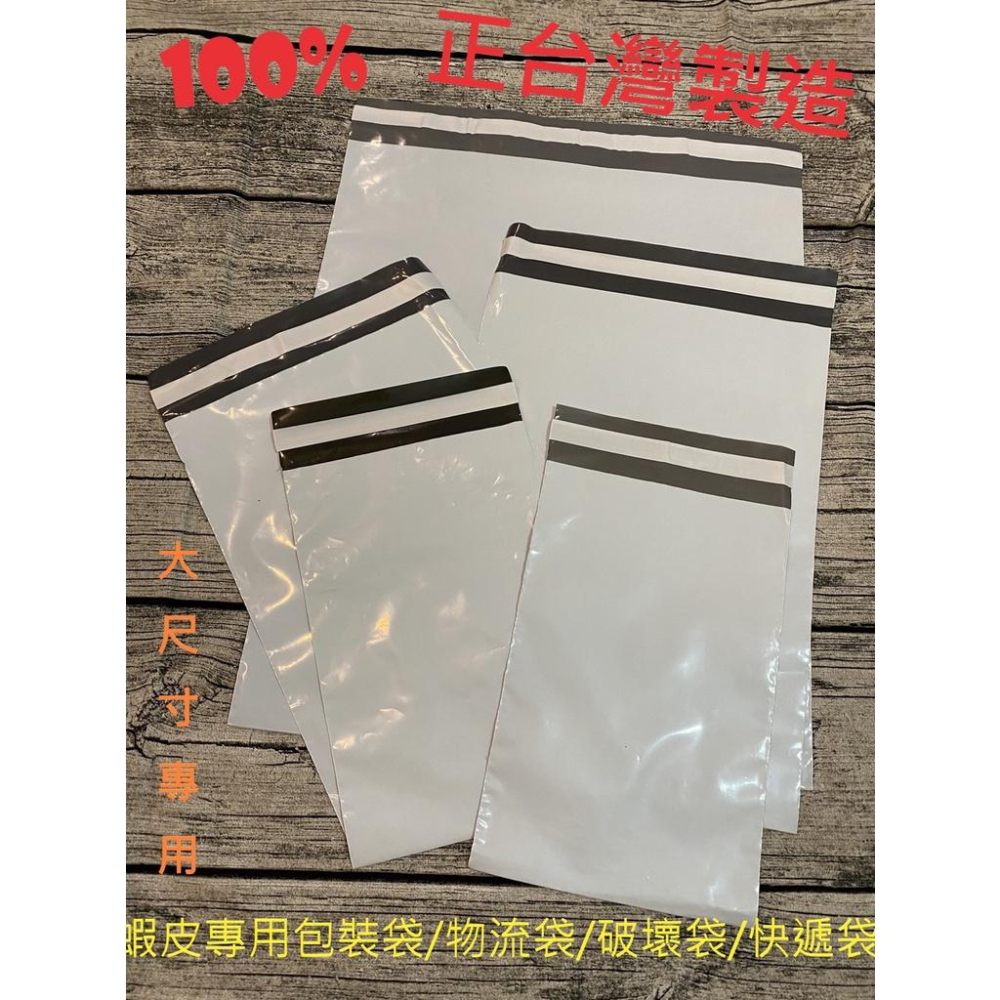塑料袋: (112, 91, 859, 926)
